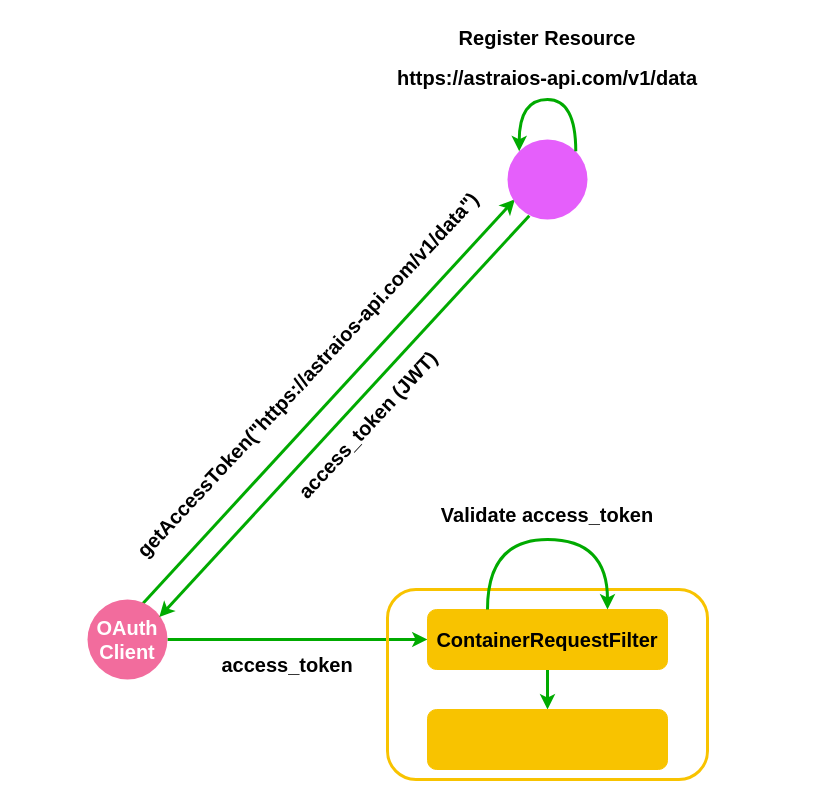
This 834x798 diagram has some shape labels left out. Here are the shapes that lost their labels. From the top down, the box of each, then its label:
(507, 139, 587, 219): Auth Server
(426, 708, 668, 770): Astraios API Resources
